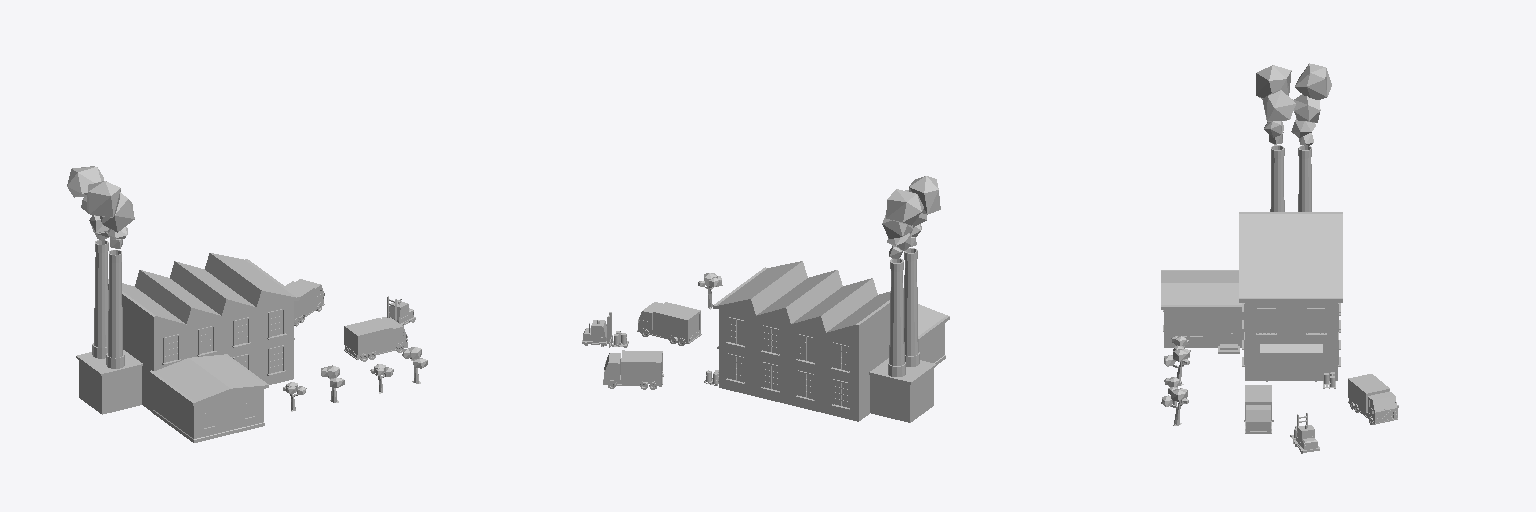
Rendered from factory 2 render.obj.
The picture shows the model from 3 angles: view 1: azimuth 30°, elevation 25°; view 2: azimuth 150°, elevation 25°; view 3: azimuth 270°, elevation 25°; orthographic projection.
Parts seen in each view (by area): view 1: _2_floor_factory_ID83, _2_floor_factory_ID67, Office_ID163, Office, Chimney_ID53, SketchUp, _2_floor_factory, Truck_Box_ID414, group_0_ID13, group_53_ID1399, group_54_ID1406, Office_ID175 (+3 smaller); view 2: _2_floor_factory_ID67, _2_floor_factory_ID83, SketchUp, _2_floor_factory, Chimney_ID53, Truck_Box_ID414, group_0_ID13, group_54_ID1406, group_53_ID1399, group_0_ID5, Office_ID163; view 3: _2_floor_factory_ID83, Office_ID163, _2_floor_factory_ID67, Office, Truck_Box_ID414, Chimney_ID53, _2_floor_factory, Garage, group_54_ID1406, group_53_ID1399, group_49_ID1413, SketchUp_ID1623 (+3 smaller).
Part boxes in pixels (x1,y1,x2,y2): _2_floor_factory_ID83: (108,253,299,327); _2_floor_factory_ID67: (108,287,293,411); Office_ID163: (149,354,268,405); Office: (153,379,263,442); Chimney_ID53: (94,252,122,357); SketchUp: (162,309,286,375); _2_floor_factory: (108,288,293,412); Truck_Box_ID414: (285,281,392,354); group_0_ID13: (79,360,141,413); group_53_ID1399: (87,181,120,217); group_54_ID1406: (67,166,103,197); Office_ID175: (154,378,263,438); _2_floor_factory_ID67: (719,303,889,421); _2_floor_factory_ID83: (713,261,903,336); SketchUp: (726,317,849,409); _2_floor_factory: (719,304,889,420); Chimney_ID53: (889,260,918,365); Truck_Box_ID414: (621,302,700,380); group_0_ID13: (870,368,933,422); group_54_ID1406: (886,189,923,225); group_53_ID1399: (909,176,940,214); group_0_ID5: (869,358,936,384); Office_ID163: (918,304,949,341); _2_floor_factory_ID83: (1239,212,1342,302); Office_ID163: (1161,270,1241,309); _2_floor_factory_ID67: (1245,303,1337,380); Office: (1164,310,1243,353); Truck_Box_ID414: (1245,374,1389,420); Chimney_ID53: (1270,157,1311,211); _2_floor_factory: (1245,303,1337,381); Garage: (1268,356,1314,380); group_54_ID1406: (1295,63,1331,99); group_53_ID1399: (1256,65,1291,98); group_49_ID1413: (1262,90,1295,121); SketchUp_ID1623: (1260,344,1322,354).
Size of the model in its own units: 3.43 by 2.21 by 2.06.